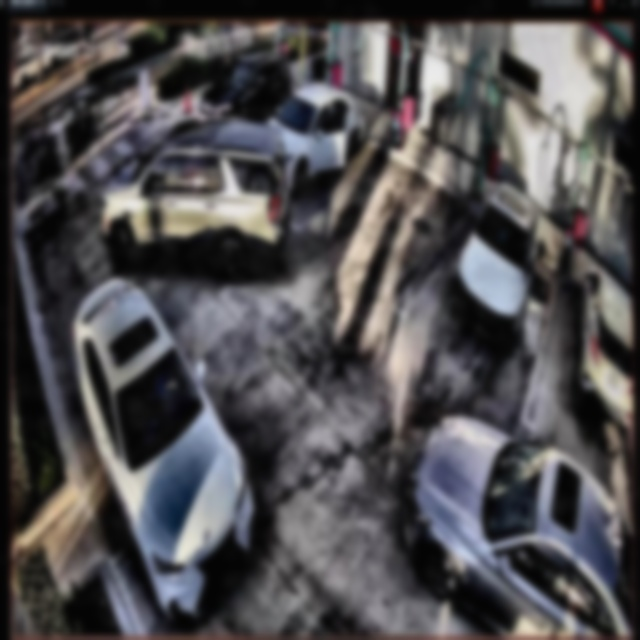Car: (73, 280, 255, 625), (408, 414, 634, 640), (105, 118, 290, 281), (457, 182, 540, 345), (271, 84, 367, 189)
